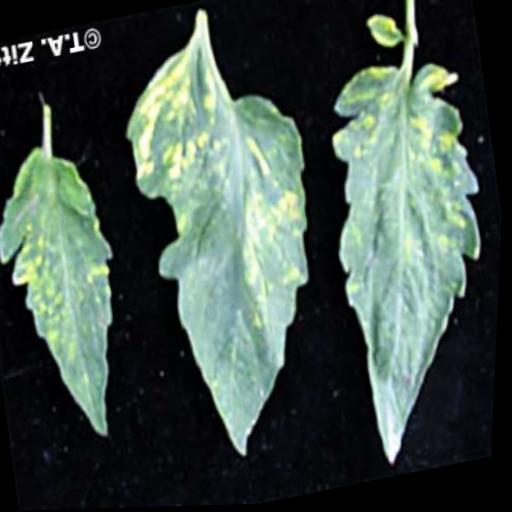Mosaic Virus: (100, 17, 359, 471), (301, 49, 510, 475), (0, 136, 147, 452)
